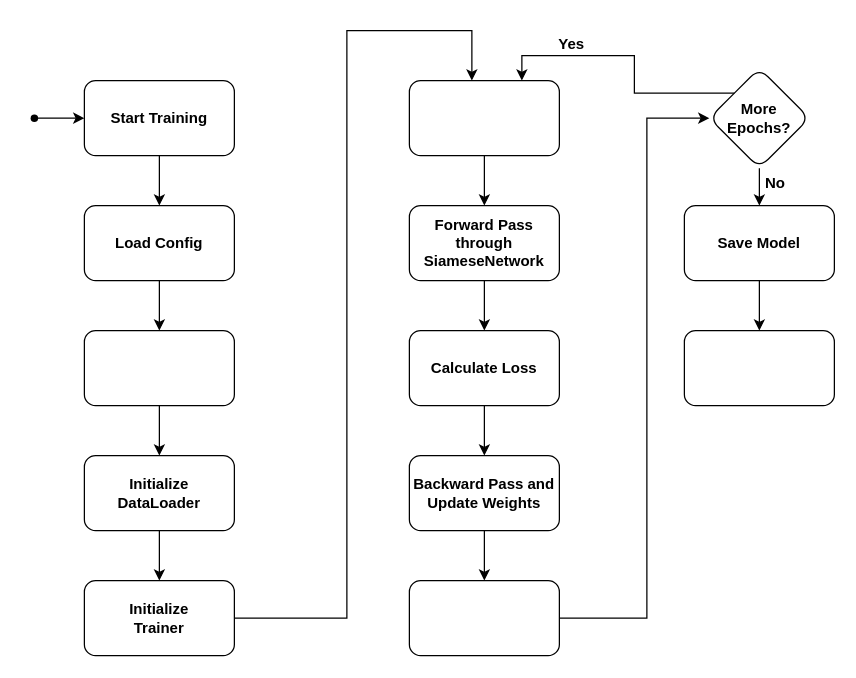
Image size: 856x678. Some labels were removed from this diagram. Here are the shapes that lost their labels. From the top down, the box of each, then its label:
(408, 79, 559, 156): Fetch Batch from DataLoader
(83, 329, 234, 406): Initialize PairsDataset
(683, 329, 834, 406): Test Model
(408, 579, 559, 656): Log Metrics with MLFlowLogger
